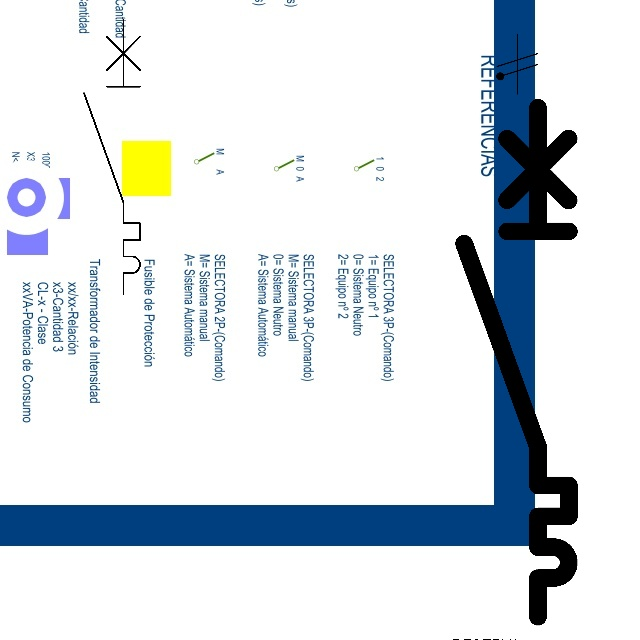interruptor_termomagnetico: (451, 94, 582, 629), (77, 13, 147, 301)
